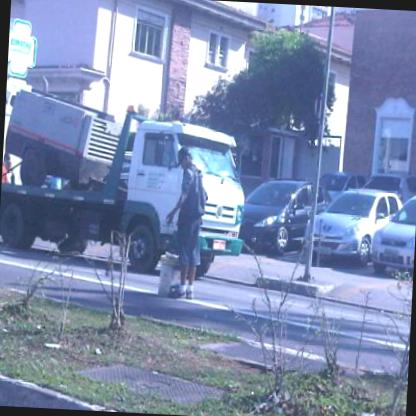truck: (1, 78, 214, 292)
